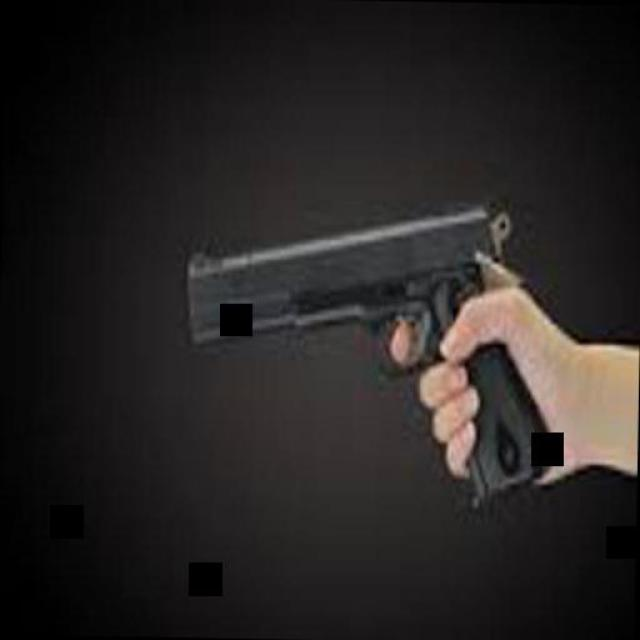gun: (182, 157, 554, 492)
